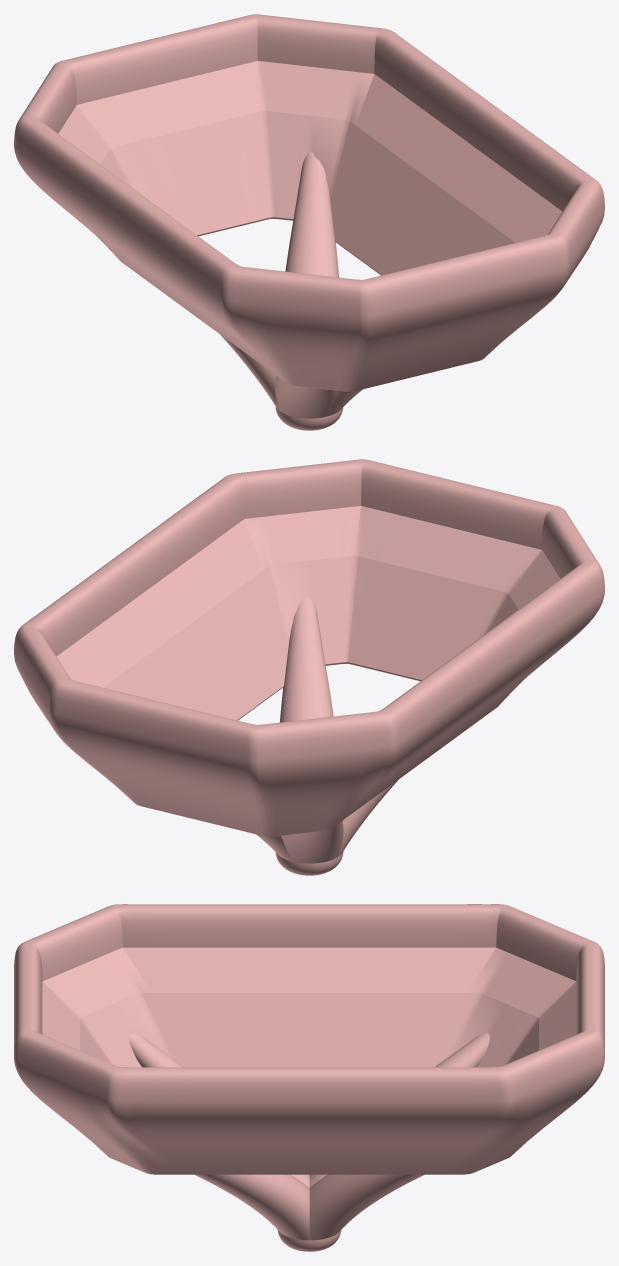
The model's file is EMERALD_old.glb.
The picture shows the model from 3 angles, top to bottom: view 1: azimuth 30°, elevation 25°; view 2: azimuth 150°, elevation 25°; view 3: azimuth 270°, elevation 25°; orthographic projection. The views are drawn at different scales.
Visible parts, largest first — view 1: Emerald; view 2: Emerald; view 3: Emerald.
Part boxes in pixels (box(x1,y1,x2,y2)): Emerald: box(14, 14, 604, 430); Emerald: box(14, 459, 604, 875); Emerald: box(14, 904, 604, 1251).
Size of the model in its own units: 5.81 by 4.01 by 8.3.
